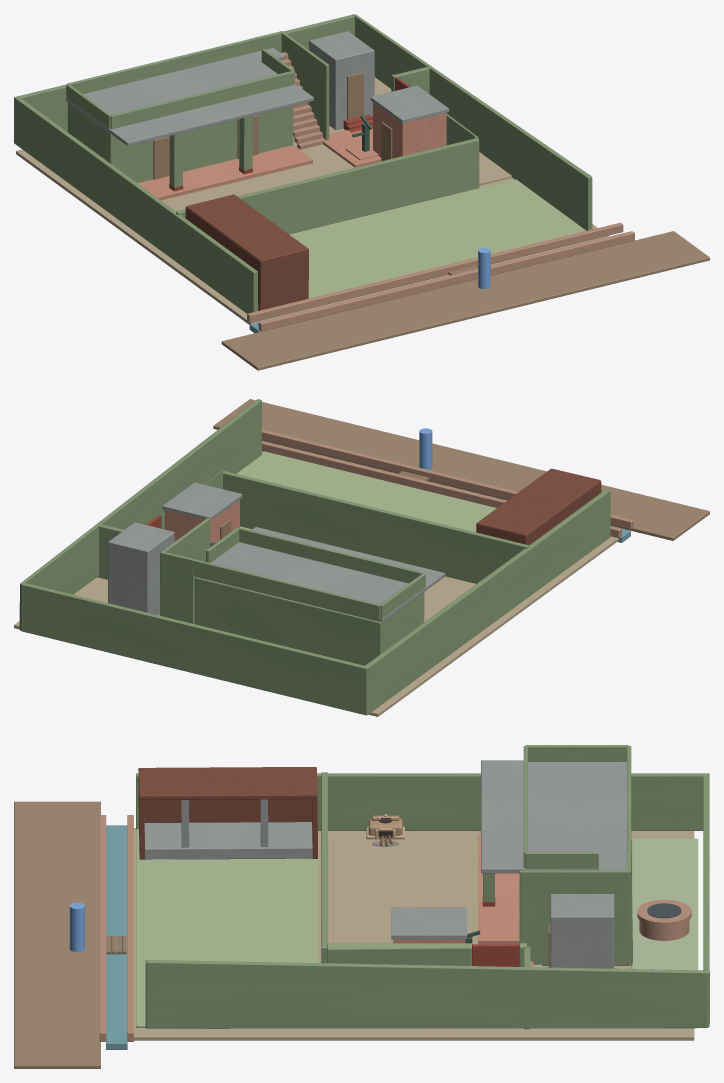
The model's file is GNOL_GrandparentsHouse_v002_Materials.fbx.
3 views of the same model, one above another, from view 1: azimuth 30°, elevation 25°; view 2: azimuth 150°, elevation 25°; view 3: azimuth 270°, elevation 25° (orthographic). The views are drawn at different scales.
Visible parts, largest first — view 1: Road, FrontYard_Grass, Property_LeftBoundary, CompoundWall_Front, Passing_RightBoundaryWall, LivingWing_MainRoof, LivingWing_MainBlock, Naala_Bank_RoadSide, Naala_Bank_YardSide, OldStorage_Roof, Property_Base, Washroom_Block (+18 smaller); view 2: Property_BackBoundary, CompoundWall_Front, Property_LeftBoundary, Road, LivingWing_MainBlock, Passing_RightBoundaryWall, FrontYard_Grass, LivingWing_MainRoof, Washroom_Block, OldStorage_Roof, MainRoof_ParapetRear, Property_Base (+13 smaller); view 3: Passing_RightBoundaryWall, Road, FrontYard_Grass, LivingWing_MainRoof, Property_LeftBoundary, Courtyard_Floor, Property_Base, RearUtility_Ground, OldStorage_RaisedFloor, OldStorage_Roof, RoofStair_OuterSideWall, Washroom_Block (+17 smaller).
Part boxes in pixels (box(x1,y1,x2,y2)): Road: box(221, 231, 709, 370); FrontYard_Grass: box(290, 179, 586, 298); Property_LeftBoundary: box(15, 98, 257, 313); CompoundWall_Front: box(176, 138, 479, 234); Passing_RightBoundaryWall: box(352, 14, 592, 230); LivingWing_MainRoof: box(66, 53, 313, 145); LivingWing_MainBlock: box(67, 102, 293, 182); Naala_Bank_RoadSide: box(258, 231, 634, 331); Naala_Bank_YardSide: box(247, 222, 623, 322); OldStorage_Roof: box(186, 194, 308, 263); Property_Base: box(16, 77, 609, 324); Washroom_Block: box(309, 31, 374, 130); Property_BackBoundary: box(21, 583, 368, 715); CompoundWall_Front: box(223, 471, 529, 583); Property_LeftBoundary: box(365, 489, 610, 713); Road: box(213, 399, 709, 540); LivingWing_MainBlock: box(195, 577, 424, 665); Passing_RightBoundaryWall: box(19, 399, 261, 630); FrontYard_Grass: box(236, 451, 496, 532); LivingWing_MainRoof: box(203, 527, 445, 622); Washroom_Block: box(108, 522, 174, 615); OldStorage_Roof: box(476, 468, 600, 535); MainRoof_ParapetRear: box(193, 559, 380, 620); Property_Base: box(14, 451, 618, 716); Passing_RightBoundaryWall: box(145, 960, 709, 1028); Road: box(14, 801, 100, 1068); FrontYard_Grass: box(136, 829, 317, 1027); LivingWing_MainRoof: box(481, 760, 626, 873); Property_LeftBoundary: box(136, 773, 703, 830); Courtyard_Floor: box(333, 834, 541, 967); Property_Base: box(134, 828, 694, 1040); RearUtility_Ground: box(631, 838, 698, 970); OldStorage_RaisedFloor: box(144, 822, 312, 859); OldStorage_Roof: box(138, 767, 317, 800); RoofStair_OuterSideWall: box(519, 870, 630, 965); Washroom_Block: box(550, 894, 614, 968).
Size of the model in its own units: 2300 by 416 by 2561.
